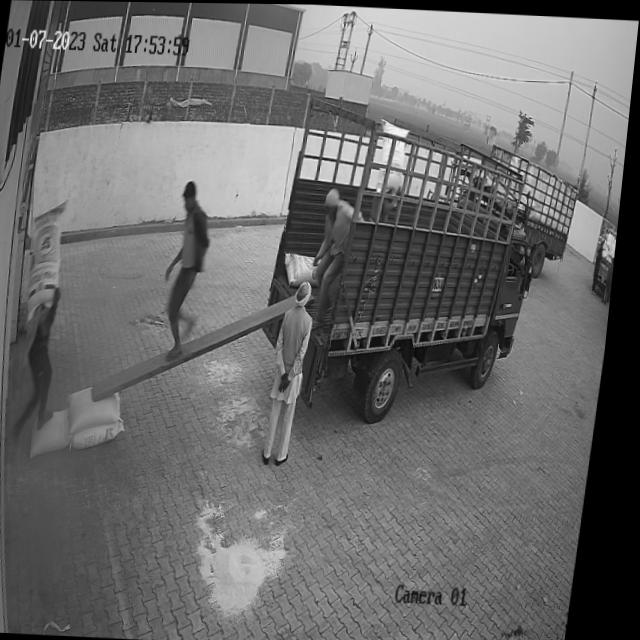sack: (25, 198, 73, 319), (70, 385, 131, 432), (37, 407, 81, 457), (78, 417, 133, 450), (285, 249, 326, 288)
